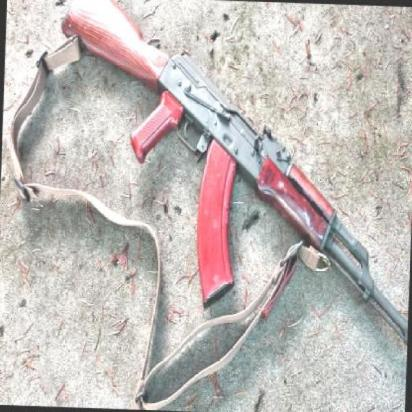Gun: (26, 0, 412, 370)
